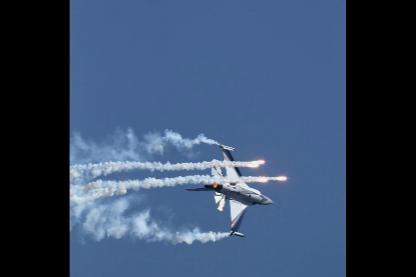F14: (186, 142, 276, 236)
